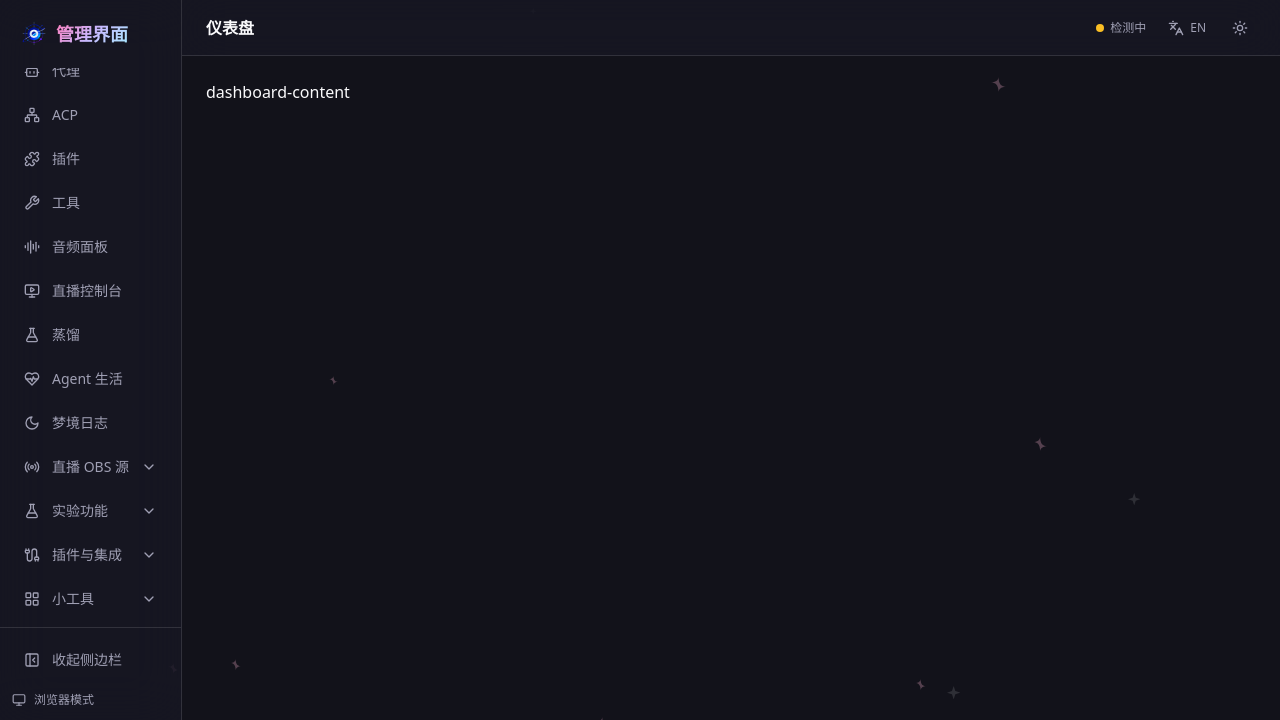
Scenario: ManagementLayout 增强侧边栏 › A. 小工具分组默认折叠，点击「小工具」展开 4 个子项
This screenshot has width=1280, height=720.
(page scrolled)
Expected: the text "向量数据" is not shown
Expected: the text "音频测试" is not shown
Click the button "小工具".
click(90, 599)  # box [12,579,169,619]
(page scrolled)
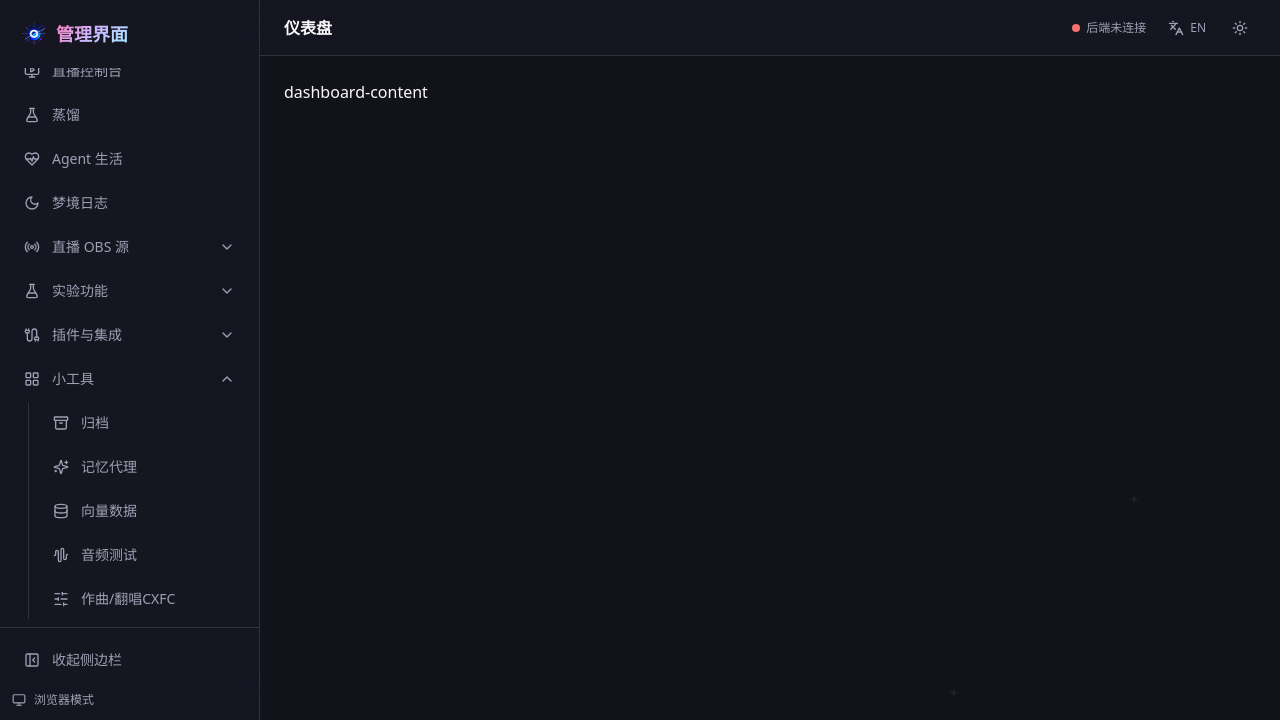
Now the text "向量数据" is shown, box [81,501,137,521]
Now the text "归档" is shown, box [81,413,109,433]
Now the text "作曲/翻唱CXFC" is shown, box [81,589,175,609]
